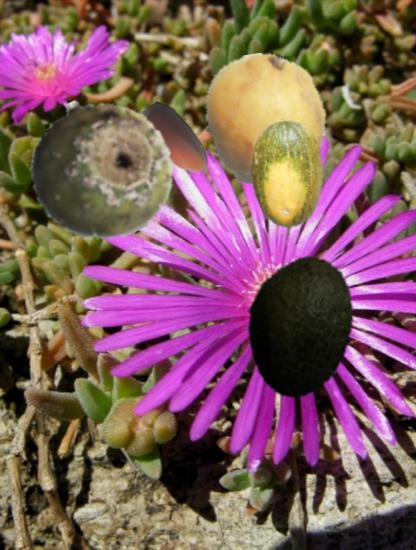Avocado: (228, 254, 372, 398)
Cactus: (27, 96, 173, 242)
Hazelnut: (133, 98, 219, 184)
Lemon: (197, 53, 333, 189)
Melon: (227, 119, 337, 229)
